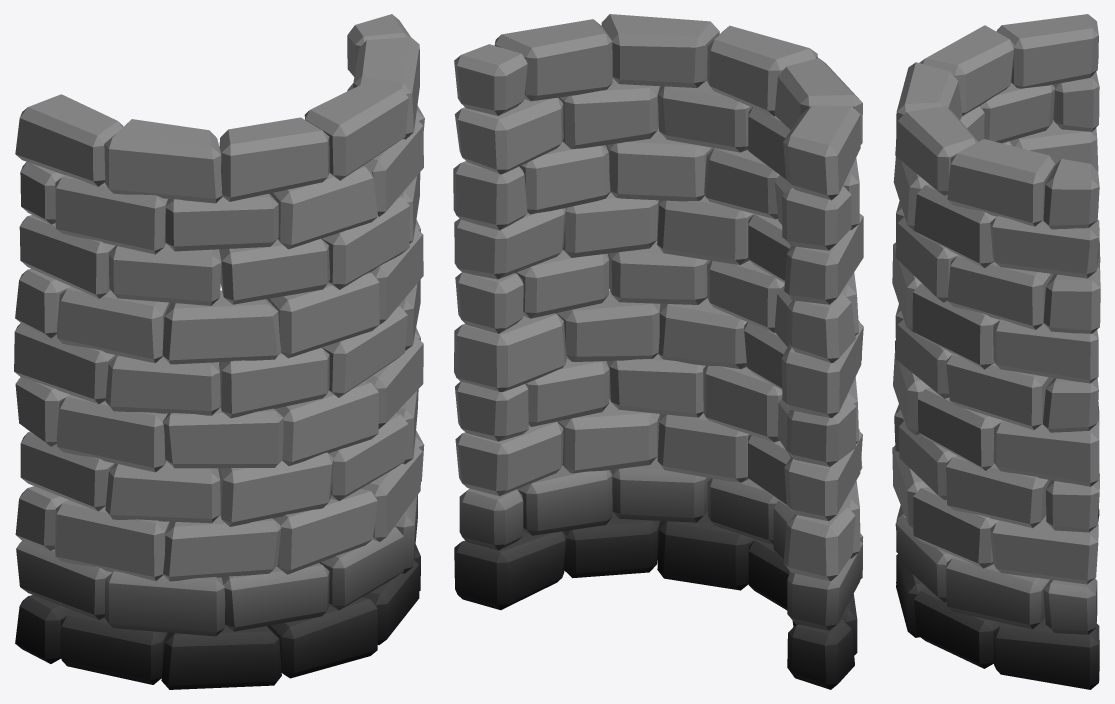
The model's file is BrickWall2x2_01_T180_Solo.fbx.
The picture shows the model from 3 angles, left to right: view 1: azimuth 30°, elevation 25°; view 2: azimuth 150°, elevation 25°; view 3: azimuth 270°, elevation 25°; orthographic projection. The views are drawn at different scales.
Visible parts, largest first — view 1: BrickWall2x2_01_T180_Solo; view 2: BrickWall2x2_01_T180_Solo; view 3: BrickWall2x2_01_T180_Solo.
Part boxes in pixels (x1,y1,x2,y2): BrickWall2x2_01_T180_Solo: (14,14,424,689); BrickWall2x2_01_T180_Solo: (453,14,863,689); BrickWall2x2_01_T180_Solo: (892,14,1100,689).
Bounding box in the file's own units: 149 × 202 × 74.08.
